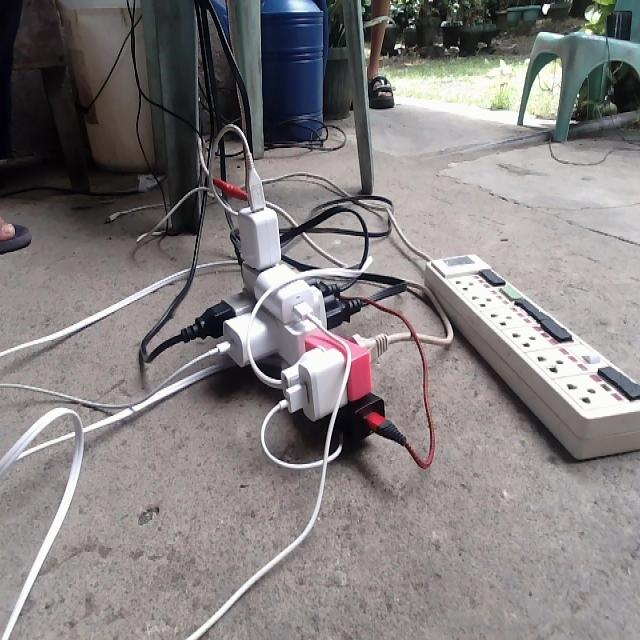-: (183, 121, 409, 452)
